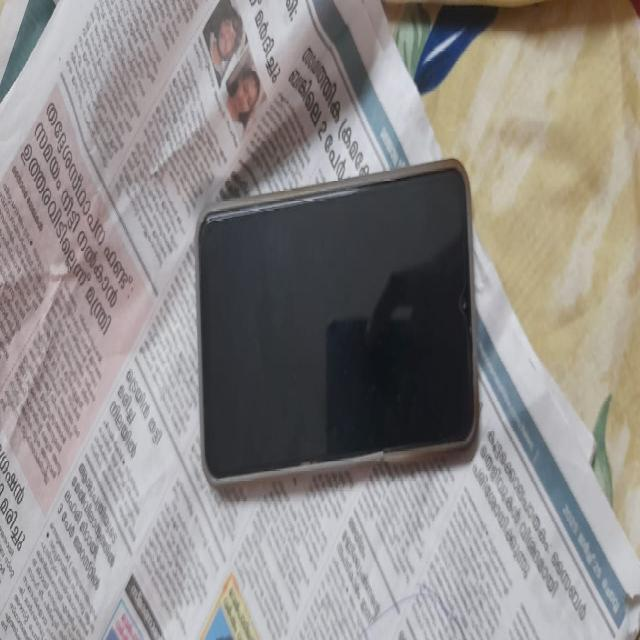Mobile - Recyclable: (195, 156, 479, 490)
